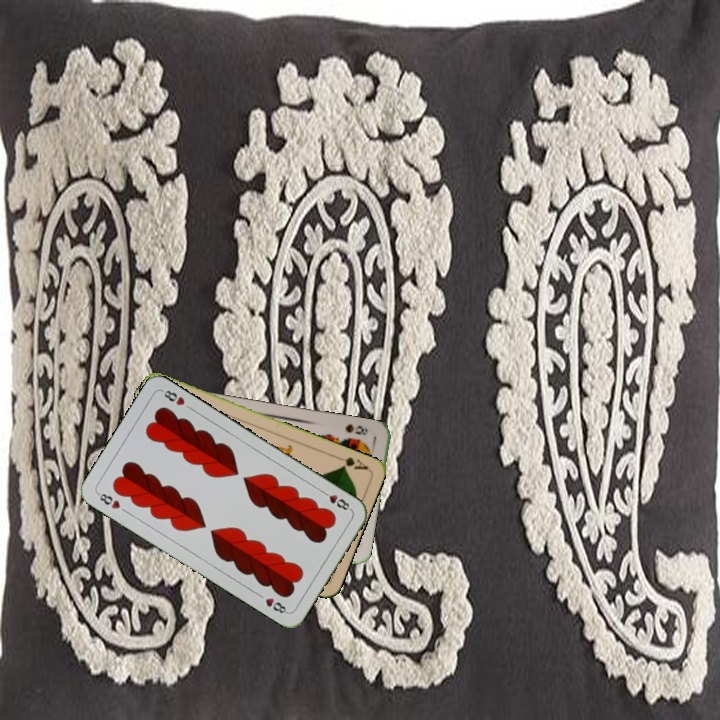GA: (331, 452, 371, 472)
H8: (317, 487, 354, 513), (93, 489, 123, 512)
S8: (341, 420, 370, 438)
